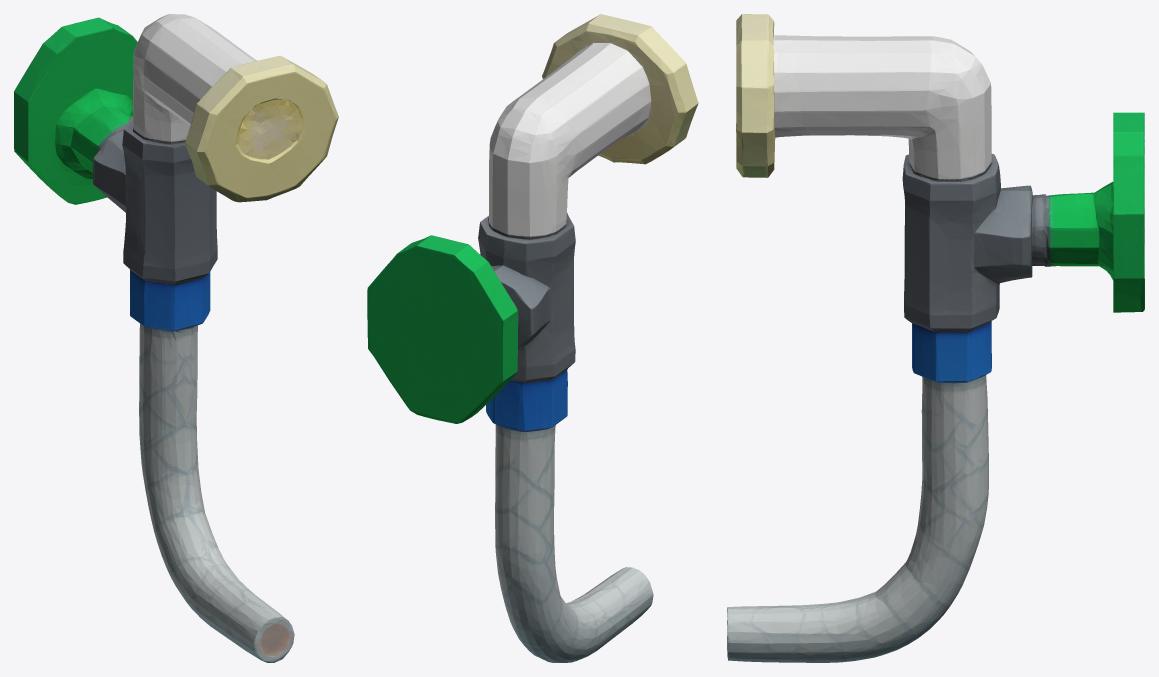
The model's file is gas_valve.fbx.
The picture shows the model from 3 angles, left to right: view 1: azimuth 30°, elevation 25°; view 2: azimuth 150°, elevation 25°; view 3: azimuth 270°, elevation 25°; orthographic projection. The views are drawn at different scales.
Parts seen in each view (by area): view 1: world; view 2: world; view 3: world.
Part boxes in pixels (x1=…): world: x1=14, y1=14, x2=338, y2=662; world: x1=367, y1=14, x2=698, y2=662; world: x1=727, y1=14, x2=1144, y2=662.
Bounding box in the file's own units: 25.19 × 99.85 × 59.64.
1 material, 1 textured.
